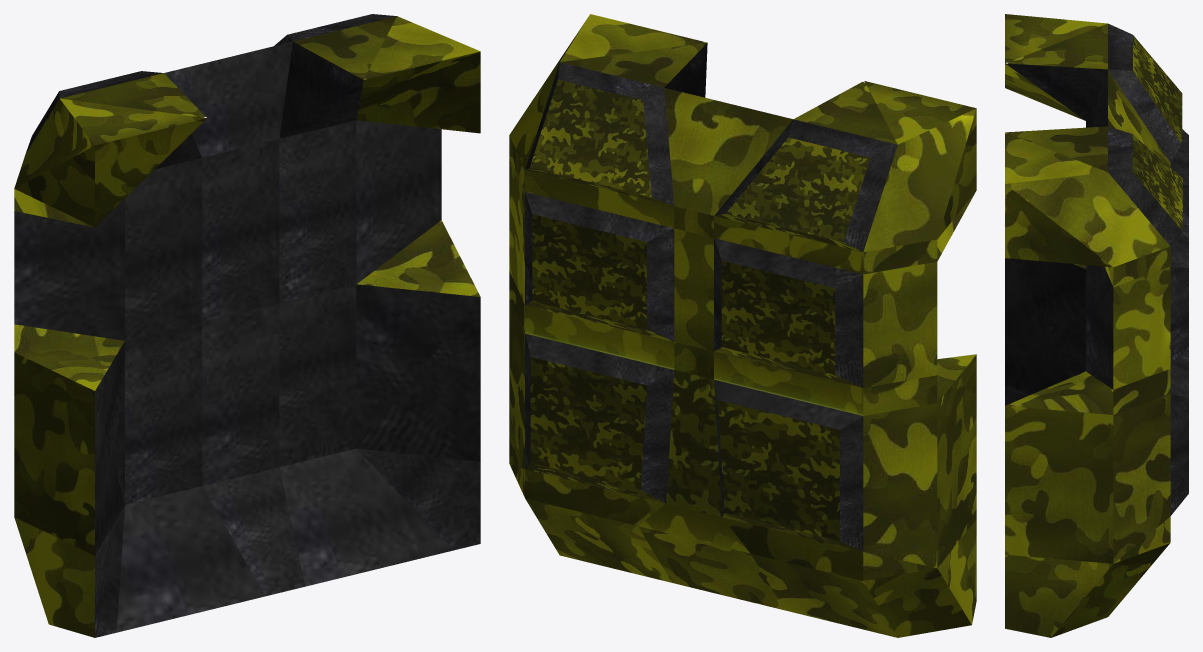
The model's file is Armour200.fbx.
3 renders of one model, left to right at view 1: azimuth 30°, elevation 25°; view 2: azimuth 150°, elevation 25°; view 3: azimuth 270°, elevation 25°, orthographic. The views are drawn at different scales.
Visible parts, largest first — view 1: Armour100; view 2: Armour100; view 3: Armour100.
Boxes of the visible parts, x1=… form: Armour100: x1=14, y1=14, x2=480, y2=637; Armour100: x1=509, y1=14, x2=976, y2=637; Armour100: x1=1005, y1=14, x2=1188, y2=637.
Bounding box in the file's own units: 1.82 × 2 × 0.7487.
